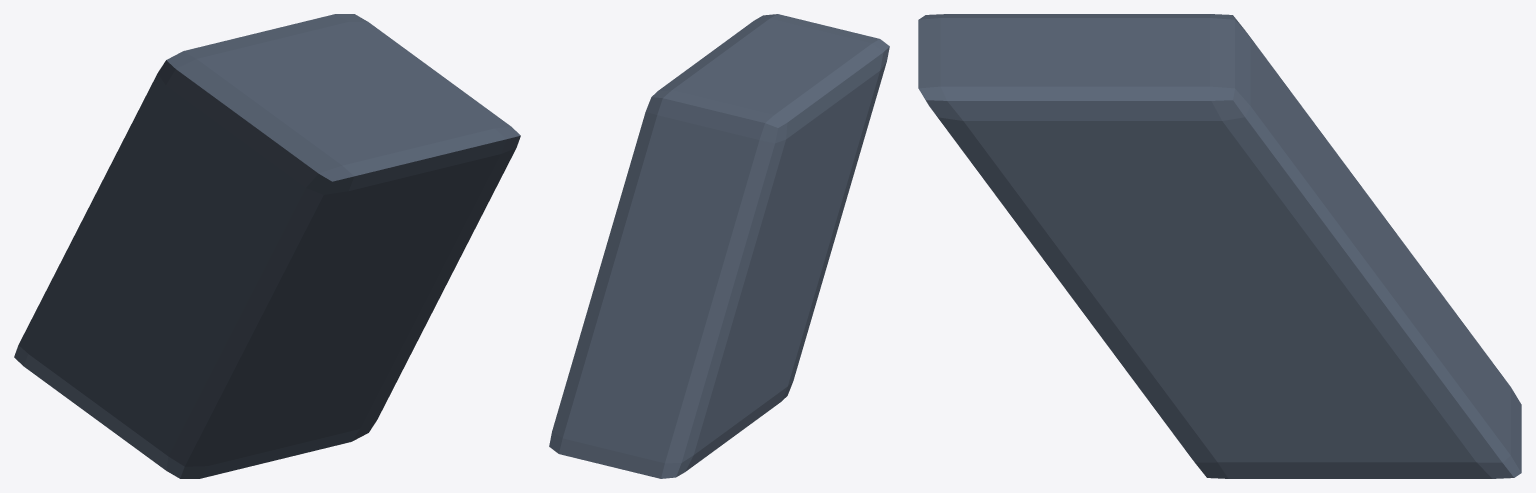
File: right_shoulder__shoulder_fin__base.glb
3 renders of one model, left to right at view 1: azimuth 30°, elevation 25°; view 2: azimuth 150°, elevation 25°; view 3: azimuth 270°, elevation 25°, orthographic. The views are drawn at different scales.
Visible parts, largest first — view 1: armor_right_shoulder__shoulder_fin__base_v001; view 2: armor_right_shoulder__shoulder_fin__base_v001; view 3: armor_right_shoulder__shoulder_fin__base_v001.
Part boxes in pixels (x1=…): armor_right_shoulder__shoulder_fin__base_v001: x1=14, y1=14, x2=520, y2=478; armor_right_shoulder__shoulder_fin__base_v001: x1=549, y1=14, x2=889, y2=478; armor_right_shoulder__shoulder_fin__base_v001: x1=918, y1=14, x2=1521, y2=478.
Bounding box in the file's own units: 0.0248 × 0.0496 × 0.0698.
